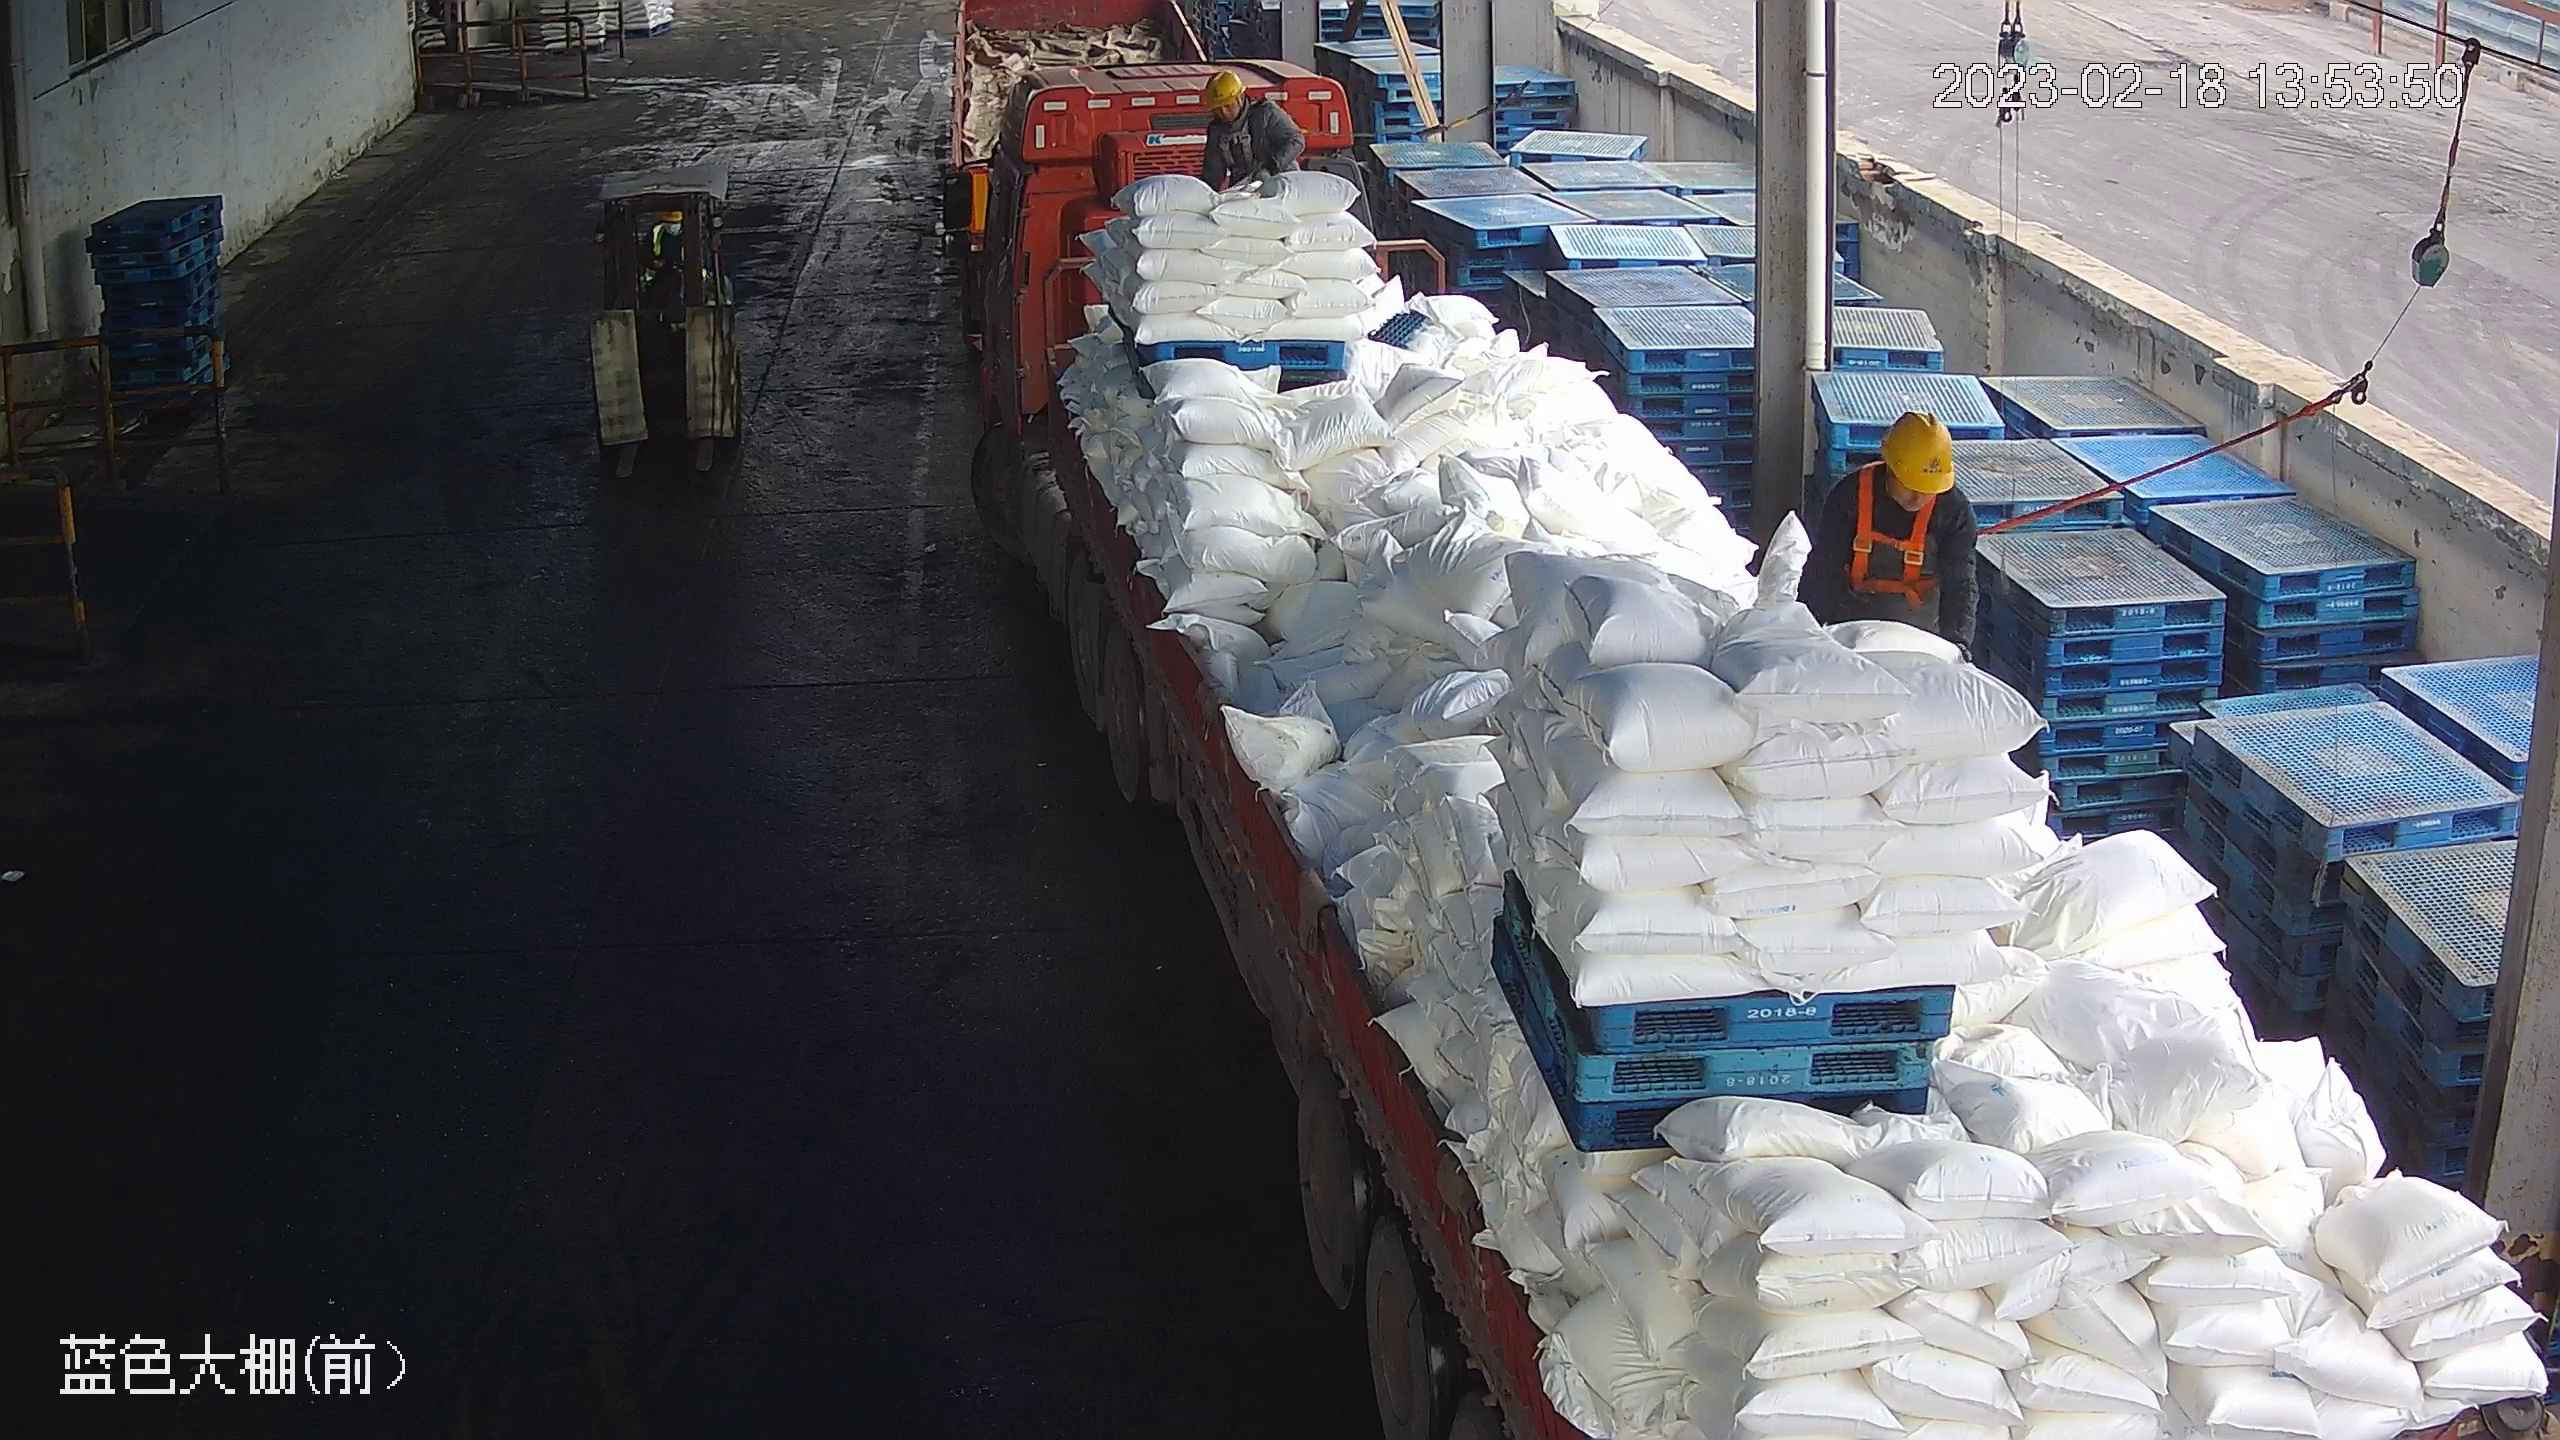belt: (1851, 460, 1989, 599), (1212, 115, 1260, 171)
head: (1827, 408, 1979, 546), (1201, 70, 1284, 136)
helmet: (1876, 410, 1957, 496), (1204, 70, 1249, 112)
people: (1811, 410, 1980, 660), (1196, 70, 1307, 188)
truck: (971, 62, 2560, 1440)
